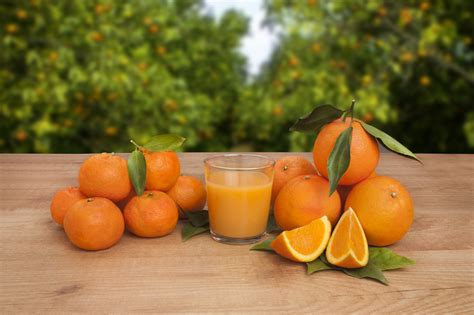orange: (341, 173, 414, 250), (309, 117, 386, 183), (64, 195, 126, 254), (276, 174, 340, 227), (77, 148, 134, 201), (128, 138, 181, 191)
